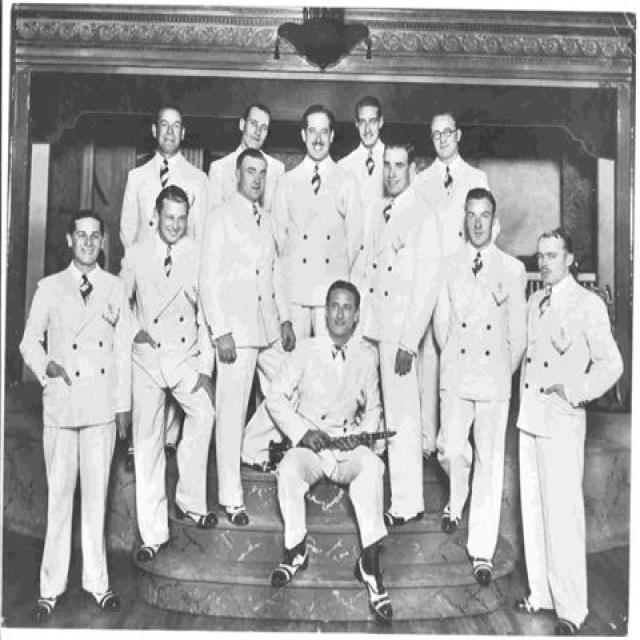clarinet: (264, 424, 404, 461)
